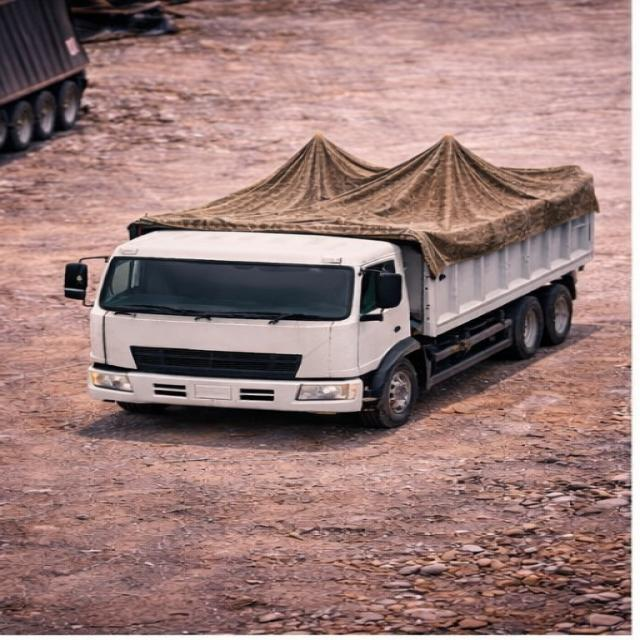Box: (154, 134, 600, 230)
Truck: (57, 103, 614, 425)
